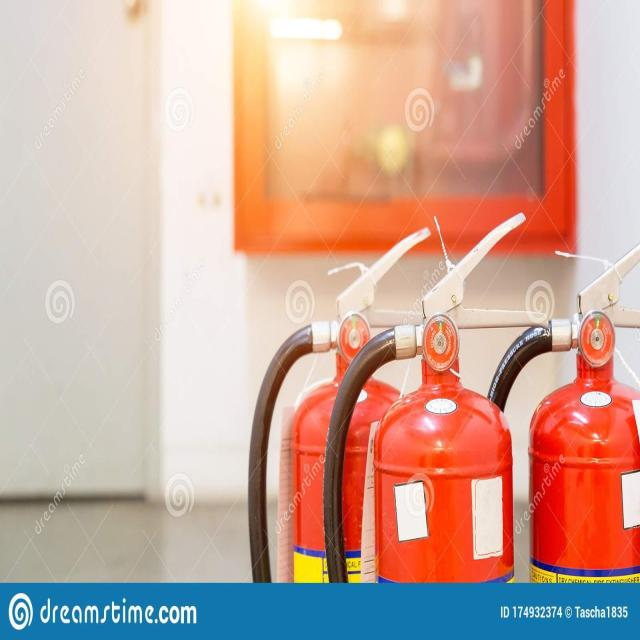fire_extinguisher: (319, 208, 551, 586), (243, 219, 438, 583), (479, 230, 640, 590)
